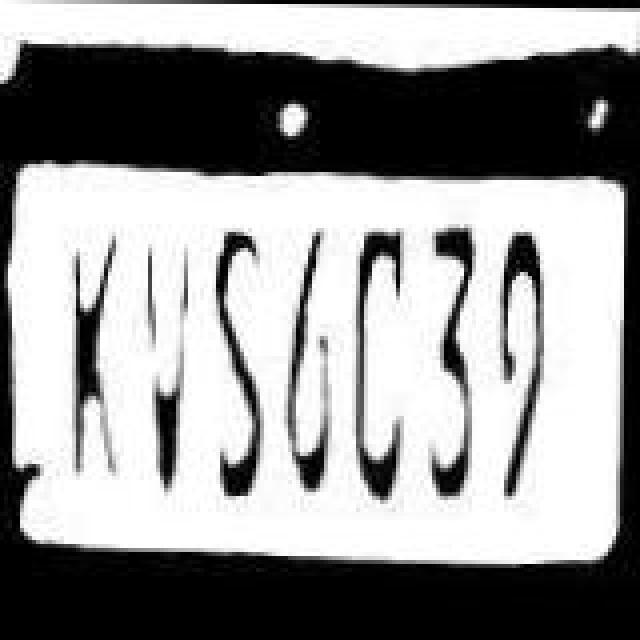3: (418, 214, 486, 518)
6: (280, 226, 352, 534)
9: (494, 228, 554, 536)
C: (352, 218, 416, 518)
K: (64, 212, 136, 520)
S: (206, 218, 274, 506)
V: (138, 222, 198, 510)
